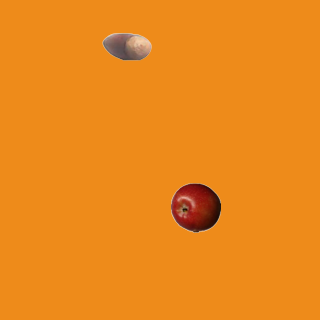Apple Braeburn: (170, 182, 220, 232)
Hazelnut: (101, 21, 151, 71)
